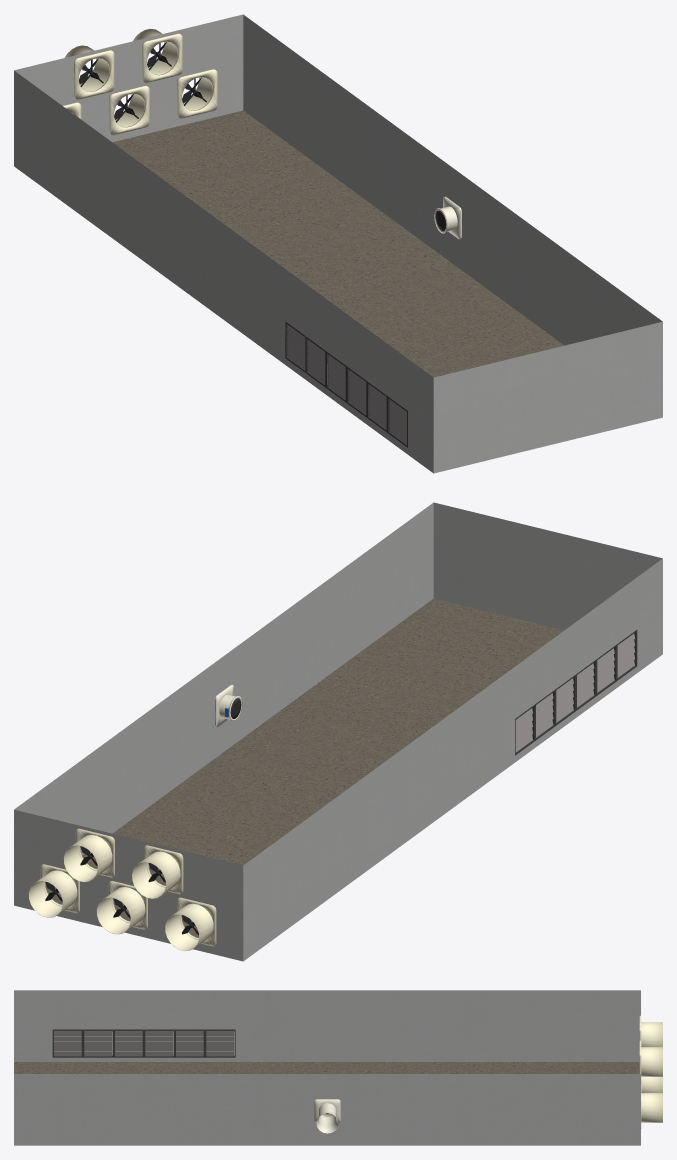
Rendered from Building_20250502.gltf.
3 renders of one model, top to bottom at view 1: azimuth 30°, elevation 25°; view 2: azimuth 150°, elevation 25°; view 3: azimuth 270°, elevation 25°, orthographic. The views are drawn at different scales.
Parts seen in each view (by area): view 1: Floor, Wall_Left, Wall_Right, Wall_Font, Wall_Back, DA 17K System, BF55 Gable Fans_3, BF55 Gable Fans_4, BF55 Gable Fans_5, BF55 Gable Fans_1, DA 17K System_Plane, DA 820; view 2: Floor, Wall_Left, Wall_Right, Wall_Font, Wall_Back, DA 17K System, BF55 Gable Fans_3, BF55 Gable Fans_2, BF55 Gable Fans_4, BF55 Gable Fans_5, BF55 Gable Fans_1, DA 17K System_Plane (+1 smaller); view 3: Wall_Right, Wall_Left, Floor, DA 17K System, DA 820, DA 17K System_Plane, BF55 Gable Fans_4, BF55 Gable Fans_1, BF55 Gable Fans_3, BF55 Gable Fans_5.
Boxes of the visible parts, x1,y1,x2,y2 form: Floor: (113,110,563,377); Wall_Left: (14,70,433,473); Wall_Right: (243,14,662,345); Wall_Font: (433,321,662,473); Wall_Back: (14,14,243,142); DA 17K System: (285,321,407,447); BF55 Gable Fans_3: (65,45,114,99); BF55 Gable Fans_4: (133,28,182,83); BF55 Gable Fans_5: (109,85,149,135); BF55 Gable Fans_1: (177,69,217,118); DA 17K System_Plane: (287,325,406,417); DA 820: (434,196,461,239); Floor: (45,598,563,937); Wall_Left: (243,558,662,961); Wall_Right: (14,502,433,855); Wall_Font: (433,502,662,630); Wall_Back: (14,809,243,961); DA 17K System: (515,630,637,755); BF55 Gable Fans_3: (132,845,183,898); BF55 Gable Fans_2: (165,897,216,950); BF55 Gable Fans_4: (63,828,114,882); BF55 Gable Fans_5: (96,881,147,934); BF55 Gable Fans_1: (28,864,79,917); DA 17K System_Plane: (515,633,635,725); Wall_Right: (14,1074,640,1145); Wall_Left: (14,990,640,1061); Floor: (14,1062,639,1073); DA 17K System: (52,1029,235,1057); DA 820: (314,1099,340,1133); DA 17K System_Plane: (54,1031,233,1035); BF55 Gable Fans_4: (639,1040,662,1082); BF55 Gable Fans_1: (641,1086,662,1128); BF55 Gable Fans_3: (639,1015,662,1046); BF55 Gable Fans_5: (641,1076,662,1092).
Bounding box in the file's own units: 91.75 × 32 × 262.
Materials: 5 (5 with a texture image).
